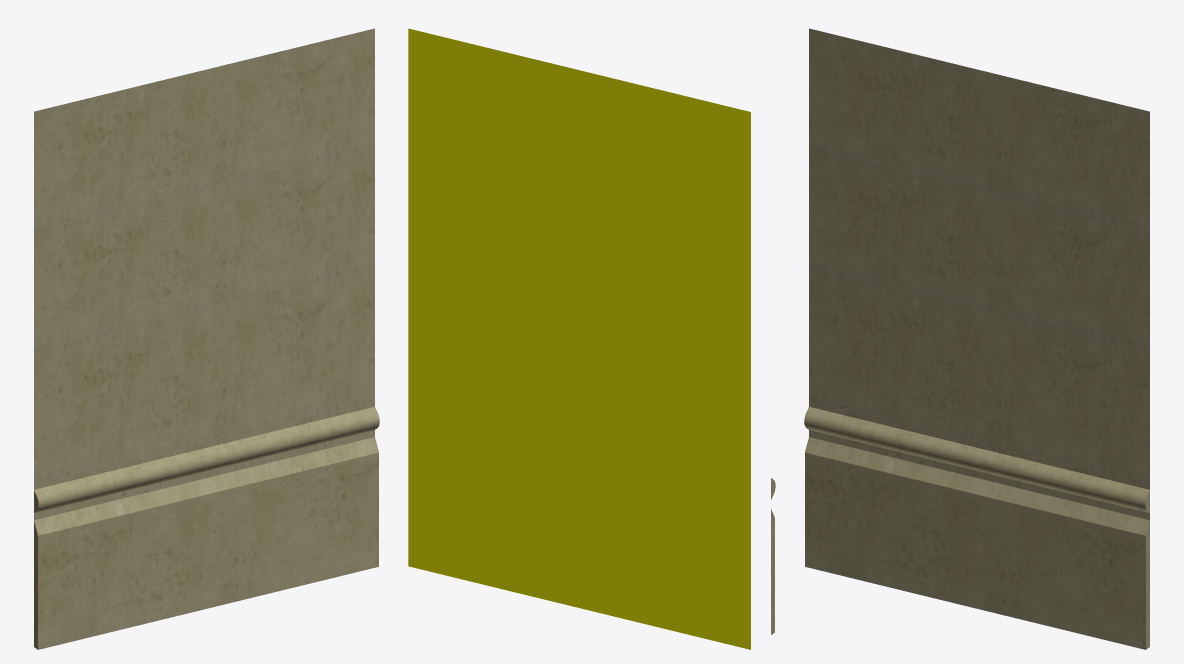
The model's file is trim-firstfloor-wall.glb.
The picture shows the model from 3 angles, left to right: view 1: azimuth 30°, elevation 25°; view 2: azimuth 150°, elevation 25°; view 3: azimuth 330°, elevation 25°; orthographic projection.
Parts seen in each view (by area): view 1: Trim_FirstFloor_Wall; view 2: Trim_FirstFloor_Wall; view 3: Trim_FirstFloor_Wall.
Part boxes in pixels (bbox=[...]): Trim_FirstFloor_Wall: bbox=[34, 28, 379, 649]; Trim_FirstFloor_Wall: bbox=[408, 28, 775, 649]; Trim_FirstFloor_Wall: bbox=[804, 28, 1149, 649].
Bounding box in the file's own units: 2 × 3 × 0.2478.
2 materials, 1 textured.
